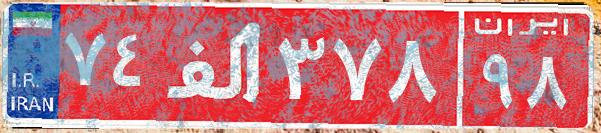3: (273, 28, 330, 110)
4: (110, 28, 158, 105)
7: (330, 28, 385, 110), (57, 26, 110, 107)
8: (385, 28, 445, 110), (525, 38, 570, 115)
9: (475, 38, 525, 113)
الف: (158, 15, 273, 115)
